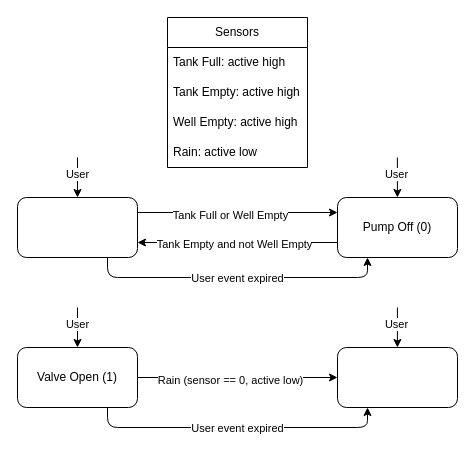
Image size: 475x453. Some labels were removed from this diagram. Here are the shapes that lost their labels. From the top down, the centre of each, then its label:
the point at 77,227: Pump On (1)
the point at 397,377: Valve Closed (0)
